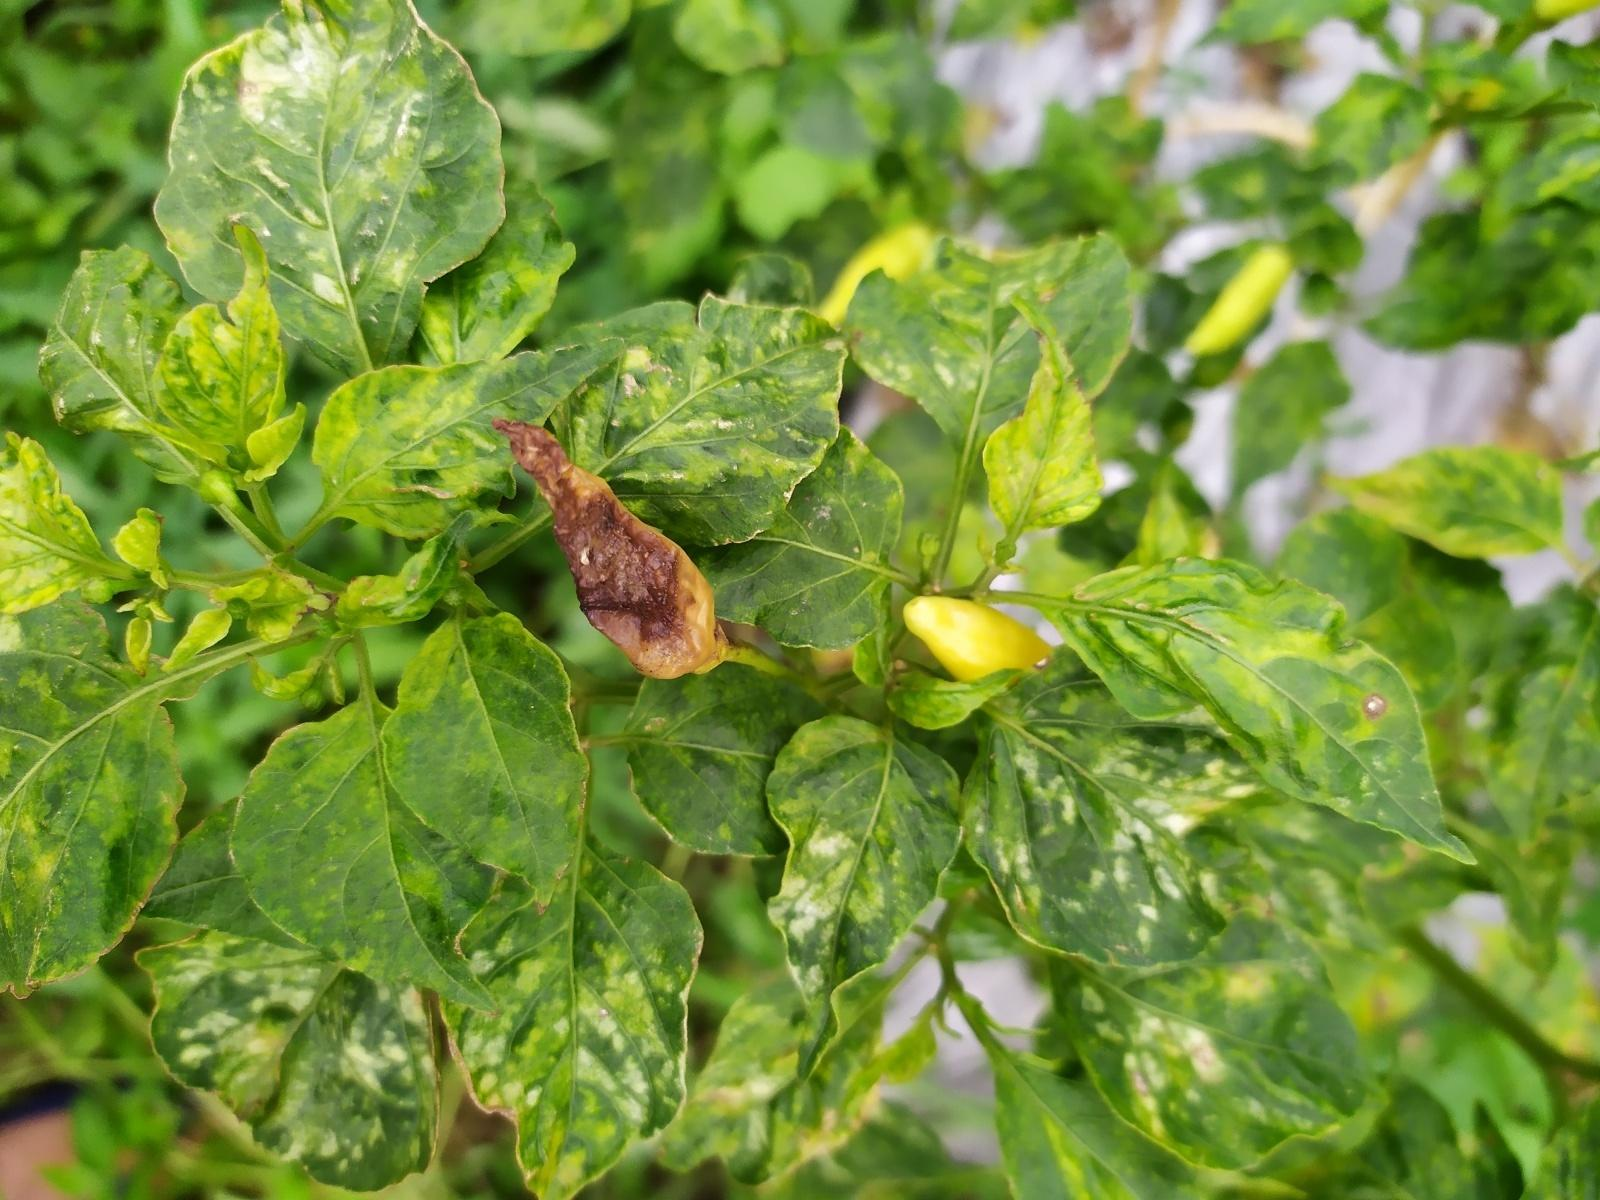antraknosa: (485, 416, 723, 682)
cabai_normal: (910, 594, 1052, 689), (1182, 245, 1294, 355)
